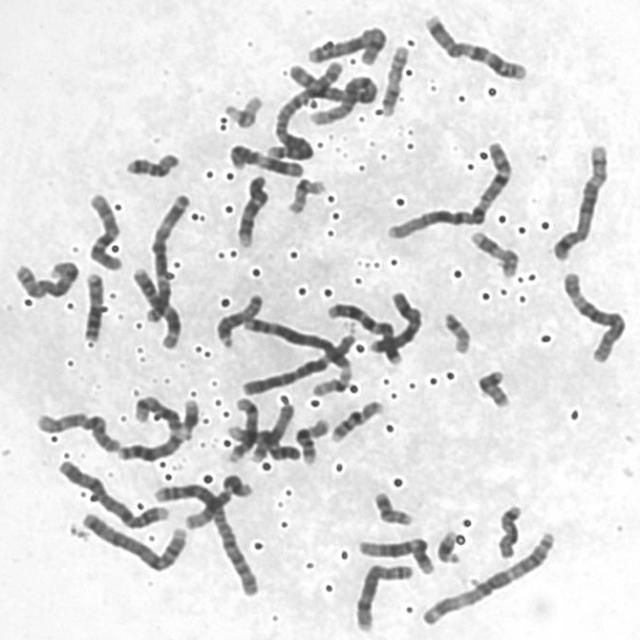A1: (381, 137, 515, 243), (288, 64, 379, 128)
A2: (147, 476, 264, 599), (266, 56, 346, 163)
A3: (416, 526, 559, 628), (140, 188, 194, 326)
B4: (52, 454, 171, 532), (76, 506, 191, 574)
B5: (548, 138, 612, 263), (239, 312, 351, 373)
C10: (31, 406, 122, 454), (82, 188, 125, 272)
C11: (127, 262, 182, 352), (224, 139, 306, 179)
C12: (181, 469, 255, 532), (352, 531, 436, 576)
C6: (237, 330, 358, 397), (557, 266, 628, 365)
C7: (419, 8, 530, 82), (322, 297, 404, 366)
C8: (349, 557, 416, 634), (10, 254, 80, 302)
C9: (221, 419, 302, 463), (232, 170, 271, 250)
D13: (112, 427, 188, 464), (77, 267, 106, 344)
D14: (223, 392, 261, 464), (129, 390, 185, 434)
D15: (210, 288, 266, 350), (246, 399, 296, 464)
E16: (326, 395, 386, 444), (290, 413, 332, 466)
E17: (465, 225, 522, 280), (376, 40, 411, 118)
E18: (120, 146, 182, 180), (492, 498, 524, 560)
F19: (282, 173, 328, 216), (307, 364, 353, 398)
F20: (368, 486, 416, 527), (472, 365, 513, 411)
G21: (176, 393, 202, 442), (433, 525, 464, 566)
G22: (438, 306, 474, 356), (220, 90, 264, 130)
X: (365, 286, 426, 356), (302, 20, 391, 67)
